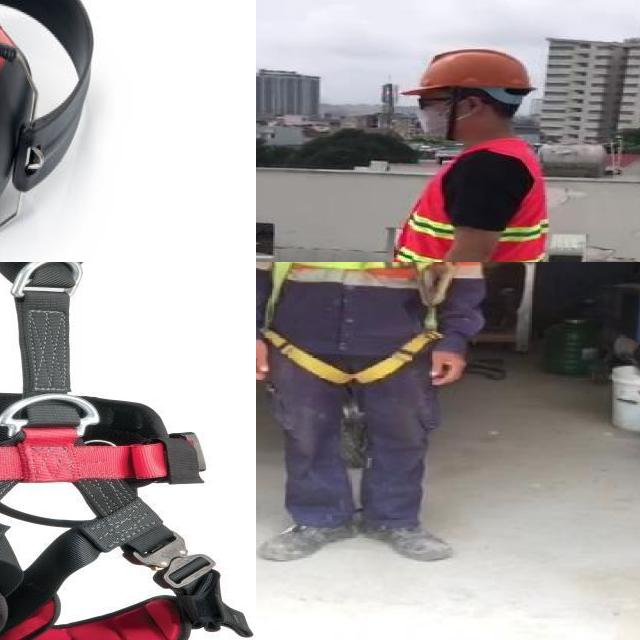Ear-protection: (0, 0, 117, 250)
Harness: (0, 262, 252, 640)
face_mask: (406, 90, 462, 140)
hand_noglove: (423, 339, 471, 390), (256, 333, 274, 385)
head_helmet: (399, 48, 533, 100)
person: (256, 262, 500, 574), (362, 43, 568, 262)
shoes: (362, 508, 463, 564), (258, 515, 359, 562)
vest: (383, 141, 548, 262)
